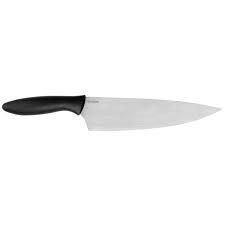Knife: (1, 94, 222, 131)
